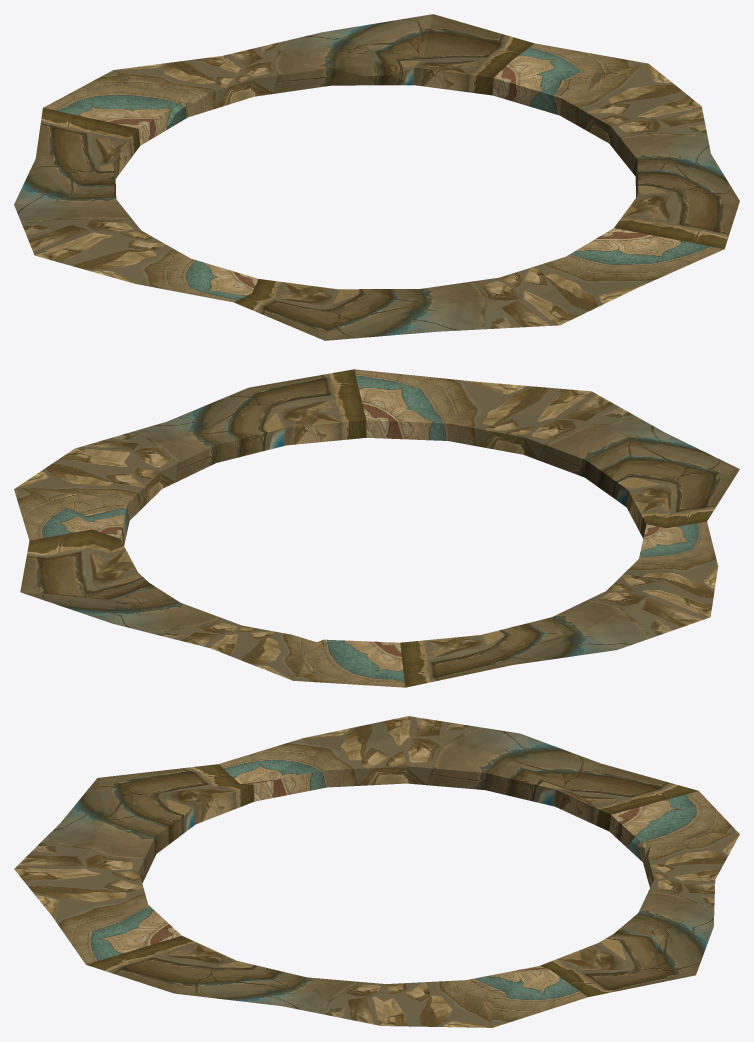
The model's file is jiebingtai.FBX.
3 views of the same model, one above another, from view 1: azimuth 30°, elevation 25°; view 2: azimuth 150°, elevation 25°; view 3: azimuth 270°, elevation 25° (orthographic). The views are drawn at different scales.
Visible parts, largest first — view 1: jiebingtai; view 2: jiebingtai; view 3: jiebingtai.
Part boxes in pixels (x1,y1,x2,y2): jiebingtai: [14, 14, 739, 340]; jiebingtai: [14, 369, 739, 687]; jiebingtai: [14, 716, 739, 1027].
Size of the model in its own units: 284 by 10.53 by 279.
1 material, 1 textured.
